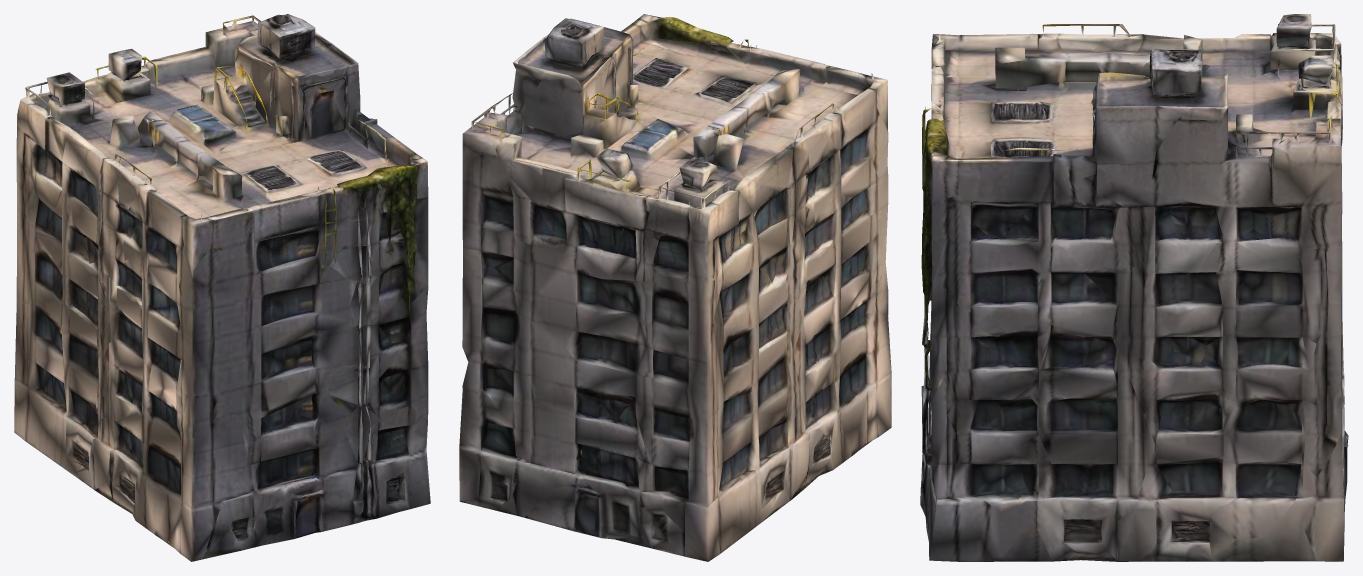
The model's file is city-building-1.glb.
3 views of the same model, side by side, from view 1: azimuth 30°, elevation 25°; view 2: azimuth 150°, elevation 25°; view 3: azimuth 270°, elevation 25° (orthographic). The views are drawn at different scales.
Parts seen in each view (by area): view 1: tripo_node_dca77b62-47d1-4d60-92c3-b8227ee55b4e; view 2: tripo_node_dca77b62-47d1-4d60-92c3-b8227ee55b4e; view 3: tripo_node_dca77b62-47d1-4d60-92c3-b8227ee55b4e.
Part boxes in pixels (left/top/right/bottom): tripo_node_dca77b62-47d1-4d60-92c3-b8227ee55b4e: left=14, top=14, right=430, bottom=561; tripo_node_dca77b62-47d1-4d60-92c3-b8227ee55b4e: left=459, top=14, right=891, bottom=561; tripo_node_dca77b62-47d1-4d60-92c3-b8227ee55b4e: left=920, top=14, right=1348, bottom=561.
Size of the model in its own units: 0.5979 by 0.9788 by 0.7809.
Materials: 1 (1 with a texture image).
